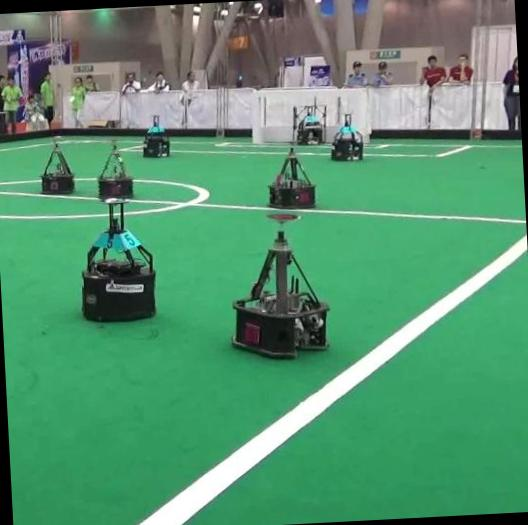goal: (252, 89, 264, 143), (361, 87, 372, 142)
robot: (232, 231, 328, 356), (82, 201, 155, 320), (269, 147, 315, 208), (98, 144, 133, 201), (41, 142, 74, 193), (293, 97, 328, 144), (331, 113, 362, 159), (143, 115, 169, 156)
